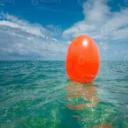red: (66, 35, 100, 84)
